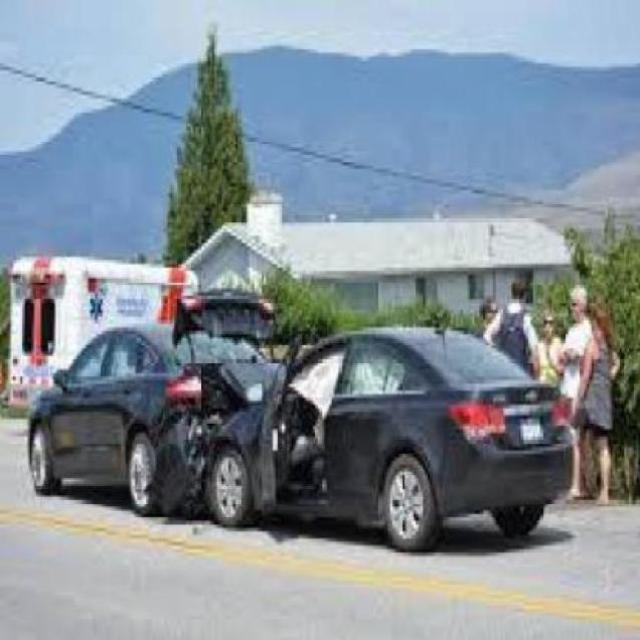accident: (28, 323, 580, 559)
